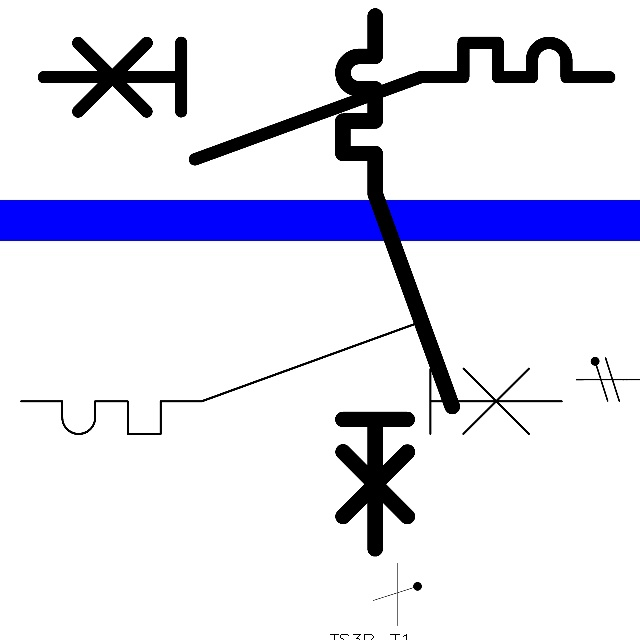interruptor_termomagnetico: (29, 28, 624, 173), (7, 309, 575, 448), (329, 2, 466, 562)
